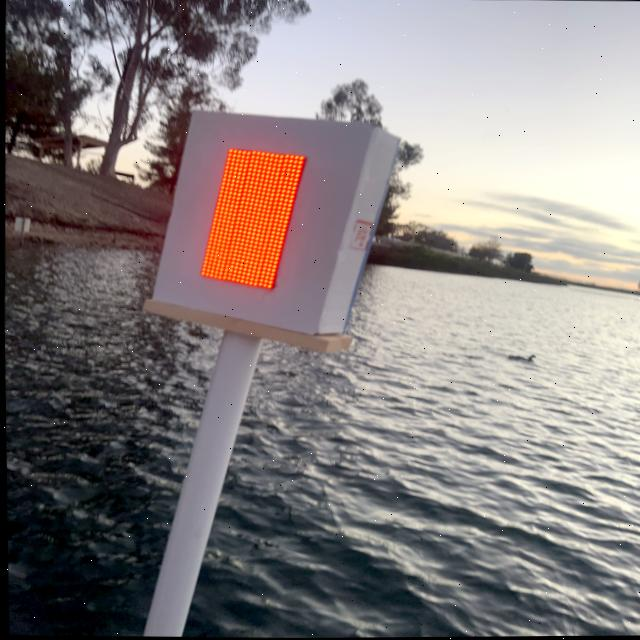led: (187, 125, 321, 310)
